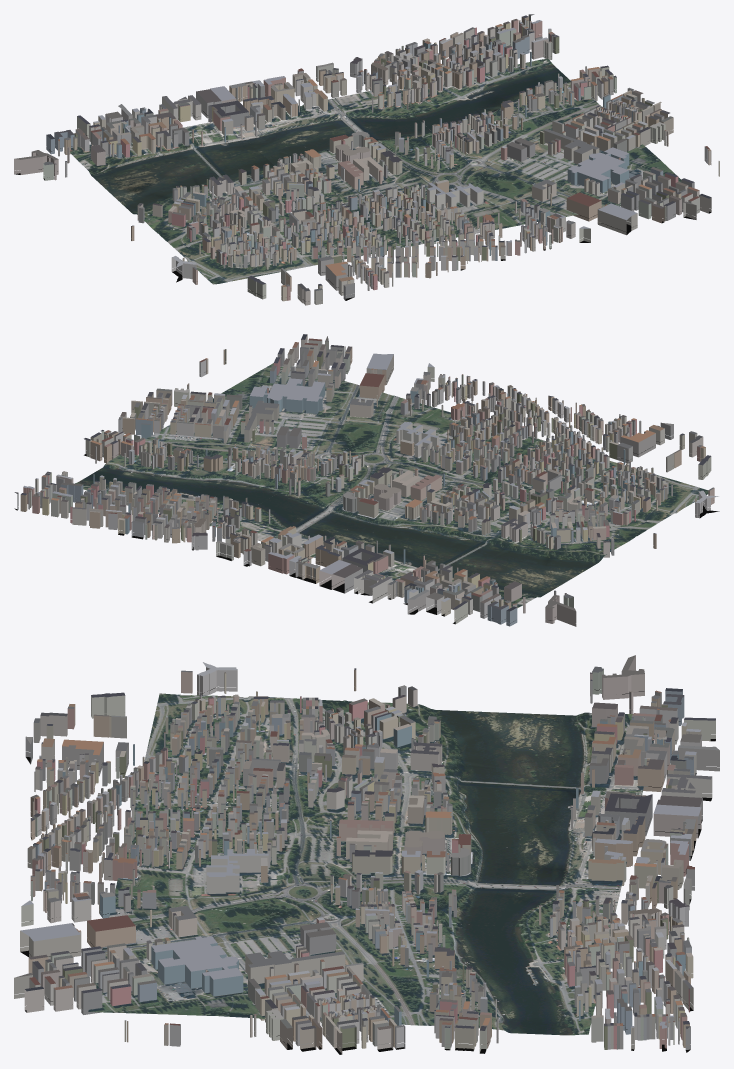
Rendered from ParitalWorld1.fbx.
The picture shows the model from 3 angles, top to bottom: view 1: azimuth 30°, elevation 25°; view 2: azimuth 150°, elevation 25°; view 3: azimuth 270°, elevation 25°; orthographic projection. The views are drawn at different scales.
Visible parts, largest first — view 1: group9, group4; view 2: group9, group4; view 3: group9, group4.
Part boxes in pixels (x1,y1,x2,y2): group9: [14, 14, 719, 305]; group4: [69, 58, 681, 284]; group9: [14, 334, 719, 626]; group4: [75, 363, 708, 608]; group9: [14, 655, 719, 1054]; group4: [88, 693, 654, 1035].
Bounding box in the file's own units: 1821 × 58.05 × 1436.
7 materials, 6 textured.
